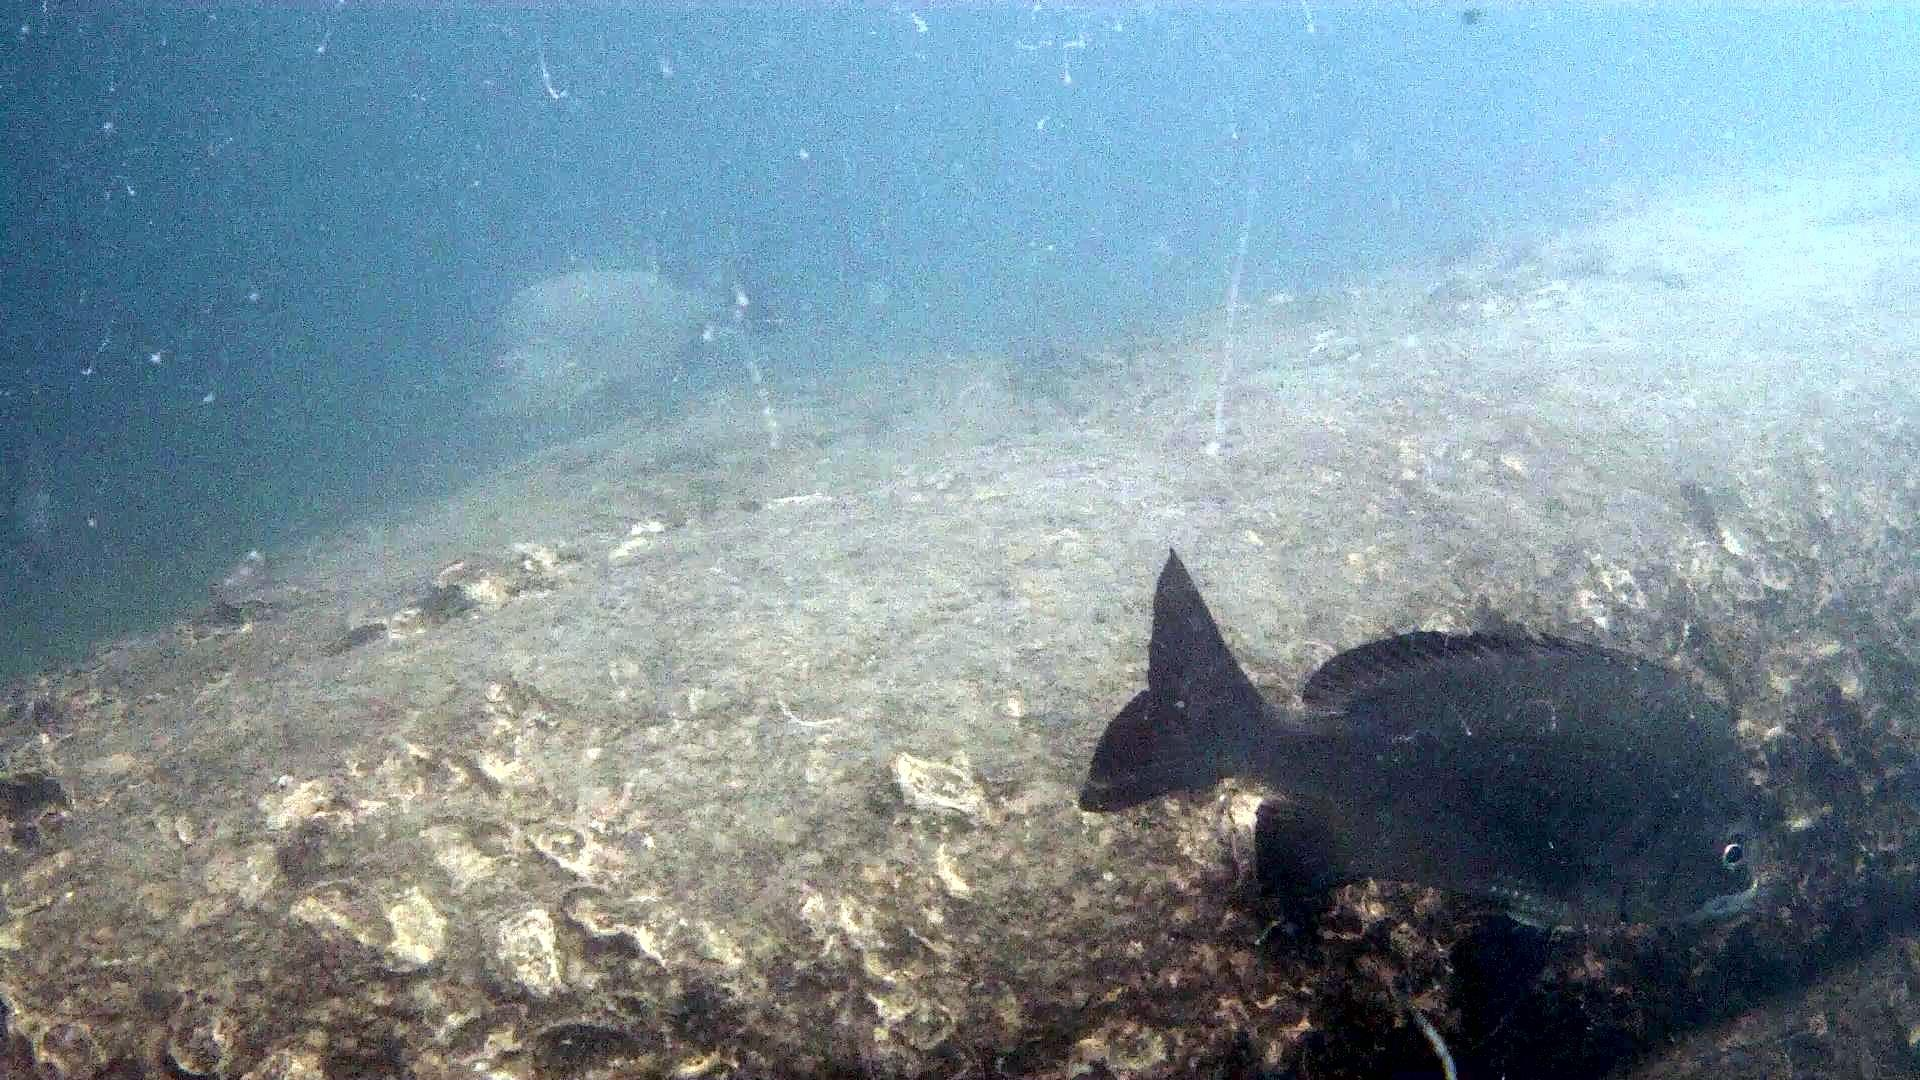acanthopagrus palmaris: (1071, 538, 1778, 1058)
